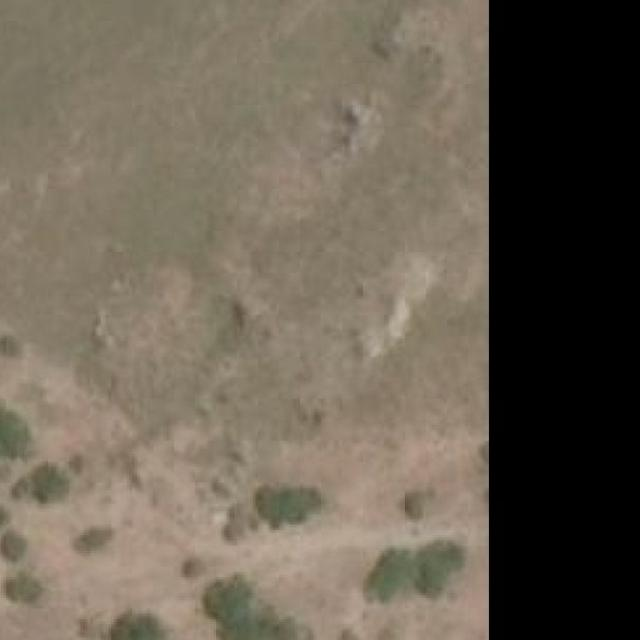Tree: (202, 572, 306, 640), (358, 549, 415, 605), (415, 540, 465, 598), (255, 486, 316, 528), (0, 401, 37, 465), (106, 608, 174, 640), (27, 459, 70, 506), (0, 526, 35, 568), (0, 574, 38, 603), (0, 331, 25, 363), (405, 491, 429, 515), (184, 559, 206, 580)
